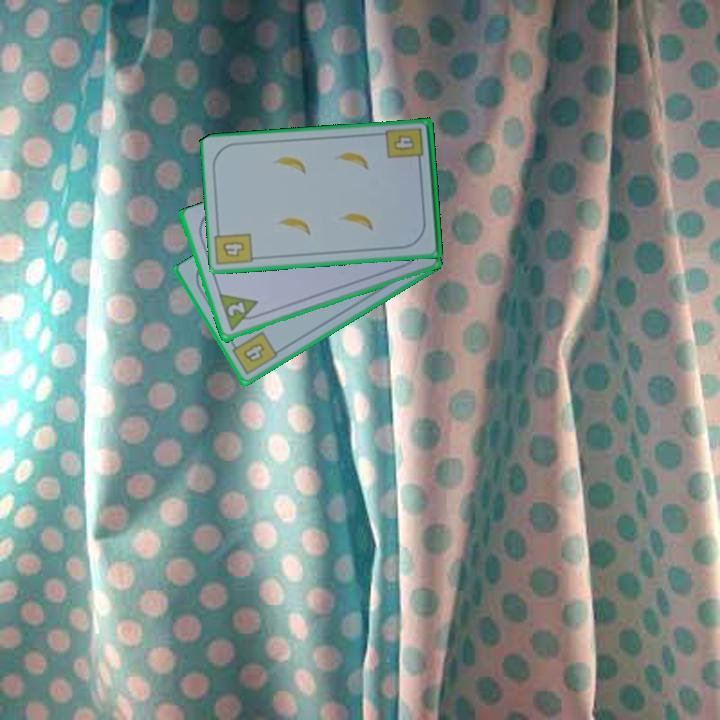2p: (224, 299, 248, 320)
4b: (227, 328, 280, 378), (383, 124, 426, 168), (219, 238, 247, 260)
